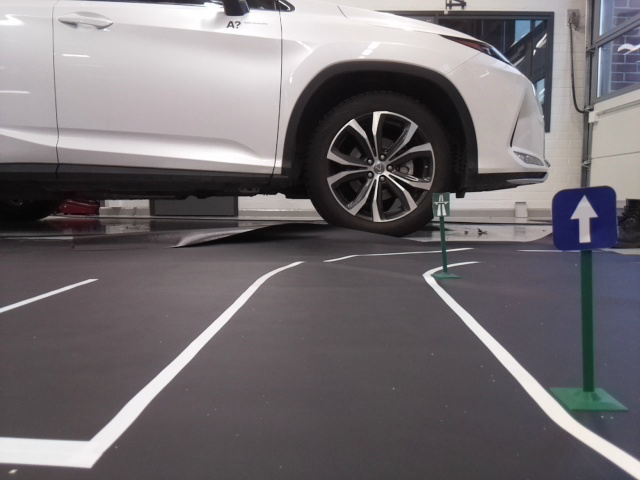HighwayEntrance: (432, 192, 451, 218)
OneWay: (551, 189, 619, 248)
